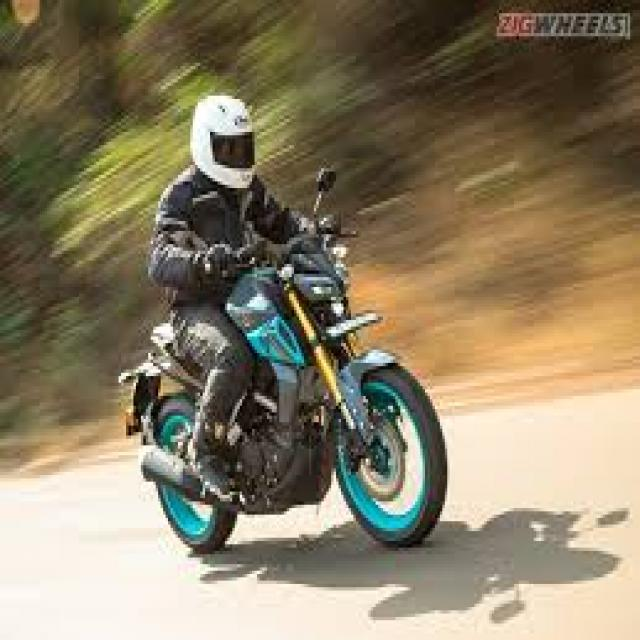Bike: (120, 228, 463, 542)
